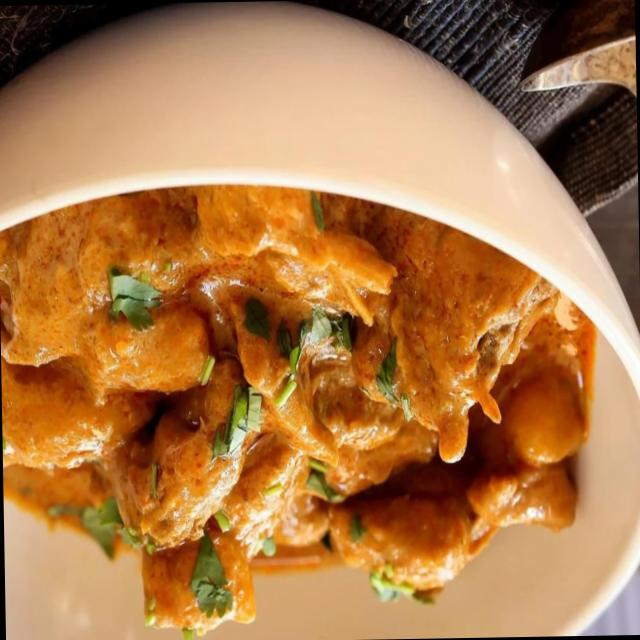chicken: (2, 176, 632, 624)
